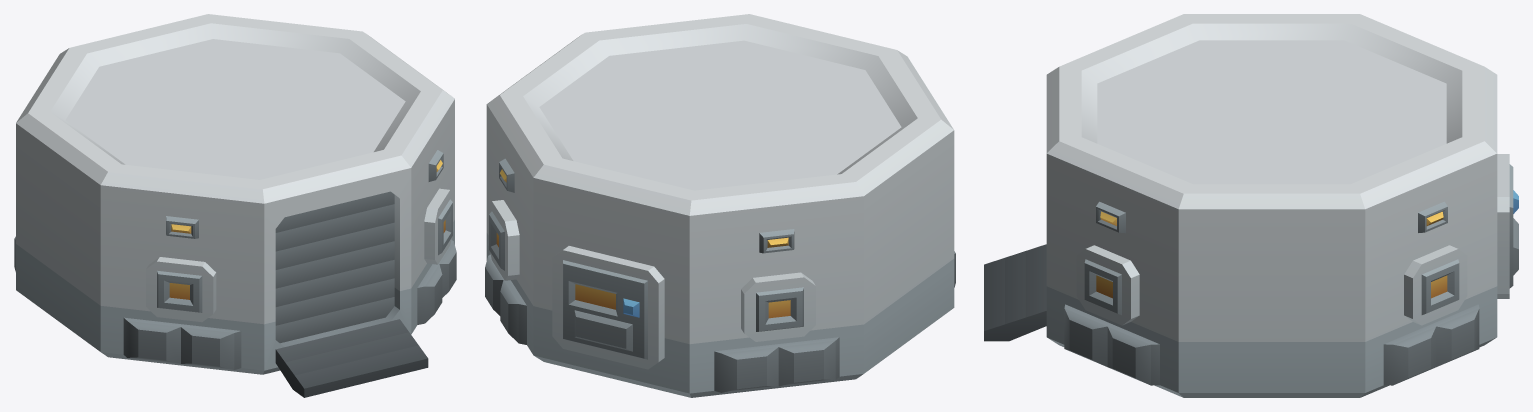
Rendered from basemodule_garage.glb.
3 renders of one model, left to right at view 1: azimuth 30°, elevation 25°; view 2: azimuth 150°, elevation 25°; view 3: azimuth 270°, elevation 25°, orthographic. The views are drawn at different scales.
Visible parts, largest first — view 1: basemodule_garage, basemodule_garage_door; view 2: basemodule_garage; view 3: basemodule_garage.
Part boxes in pixels (x1,y1,x2,y2): basemodule_garage: (14, 14, 456, 397); basemodule_garage_door: (275, 191, 394, 343); basemodule_garage: (485, 14, 955, 397); basemodule_garage: (984, 14, 1518, 397).
Bounding box in the file's own units: 2 × 1 × 2.37.
Materials: 1 (1 with a texture image).
